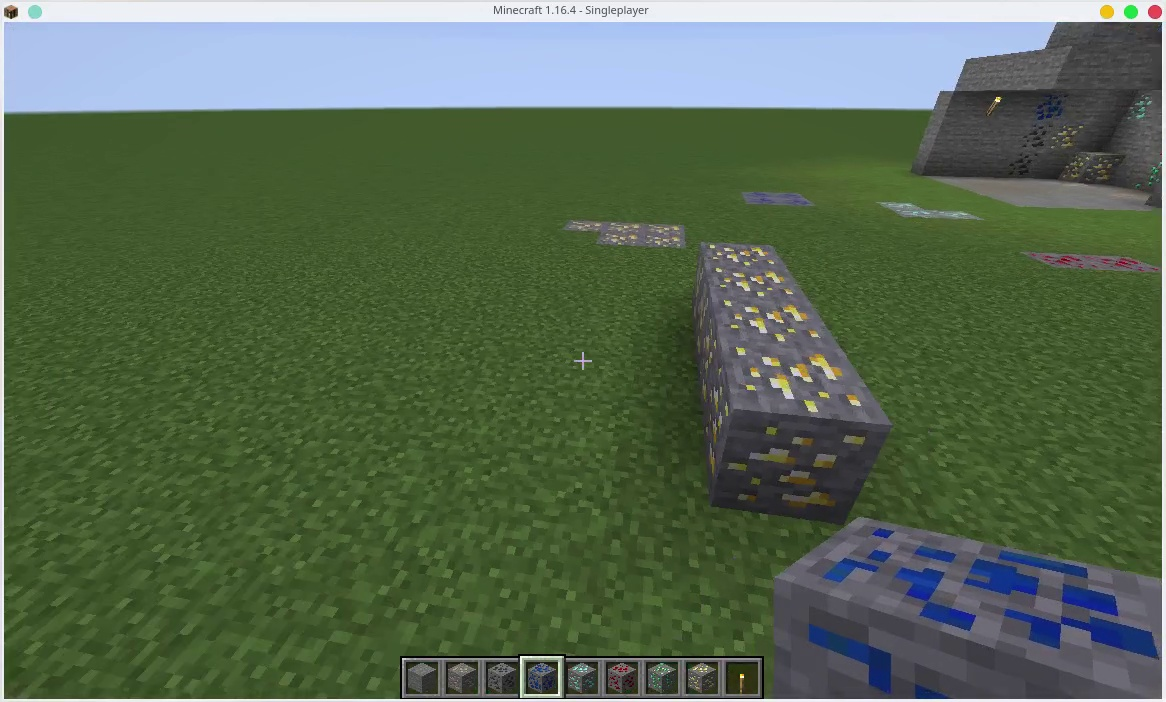gold: (686, 363, 868, 508), (690, 313, 831, 359), (691, 274, 801, 308), (583, 216, 677, 250), (1065, 150, 1116, 186), (712, 240, 772, 270), (1049, 120, 1075, 153), (688, 664, 714, 695)
